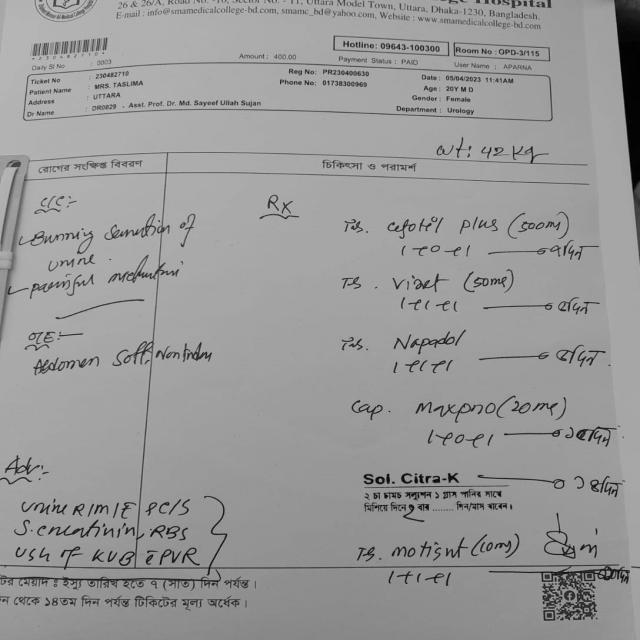medicine: (381, 203, 506, 240), (405, 390, 497, 424), (386, 526, 463, 566), (391, 326, 473, 358), (388, 266, 444, 297)
